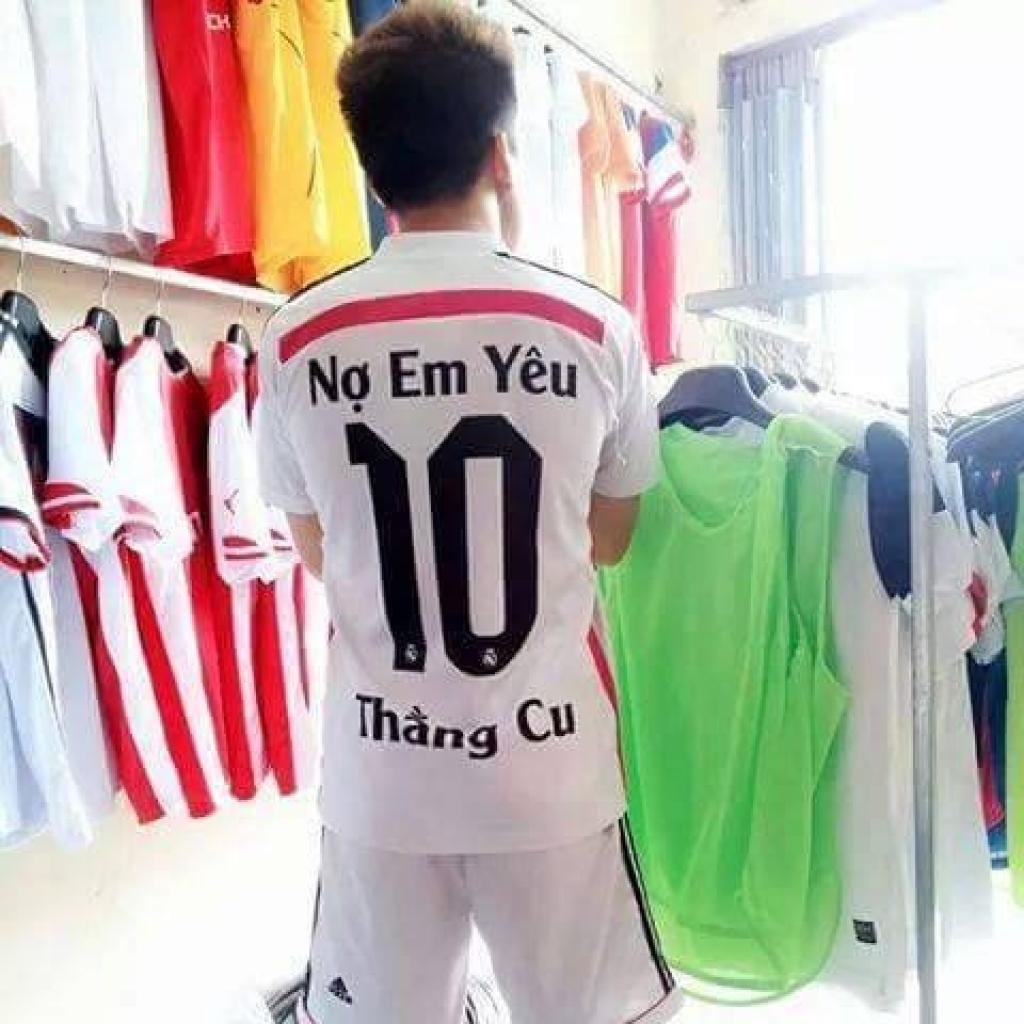text: (339, 407, 546, 685), (346, 683, 508, 772), (474, 337, 582, 405), (384, 346, 474, 405), (300, 350, 378, 418), (510, 685, 584, 753)
